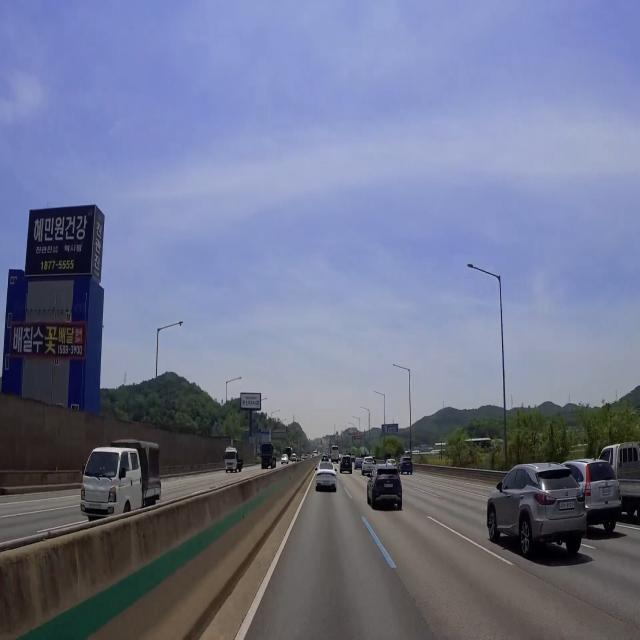car: (554, 499, 579, 516), (599, 484, 616, 499), (86, 500, 103, 513), (383, 480, 397, 494), (319, 477, 331, 491)
